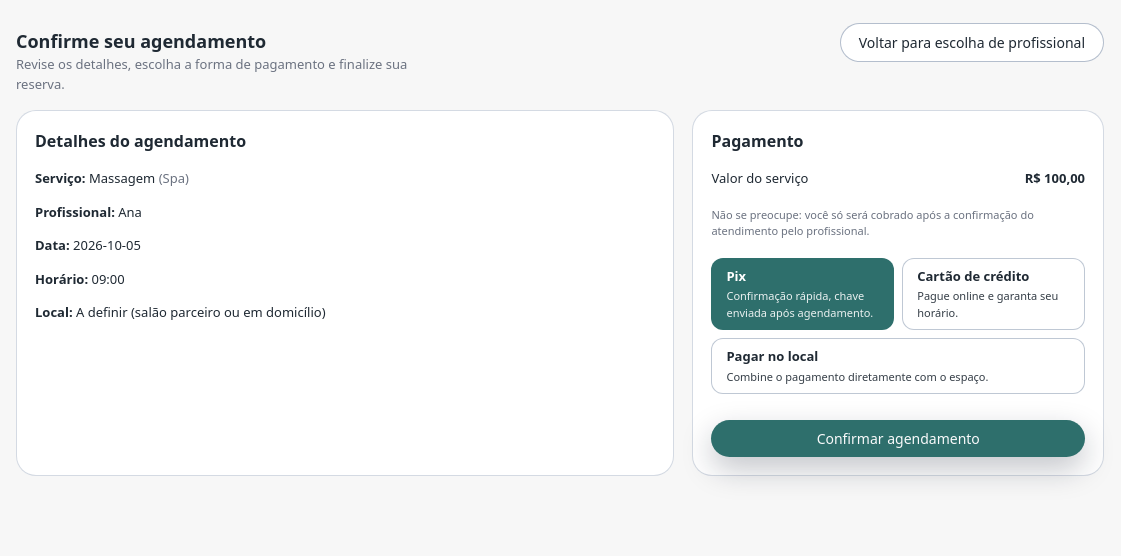
step3_shows_422_message_and_stays › step3_shows_422_message_and_stays
The image size is (1121, 556).
Click the button "Confirmar agendamento".
click(898, 438)  # box [712,420,1085,457]
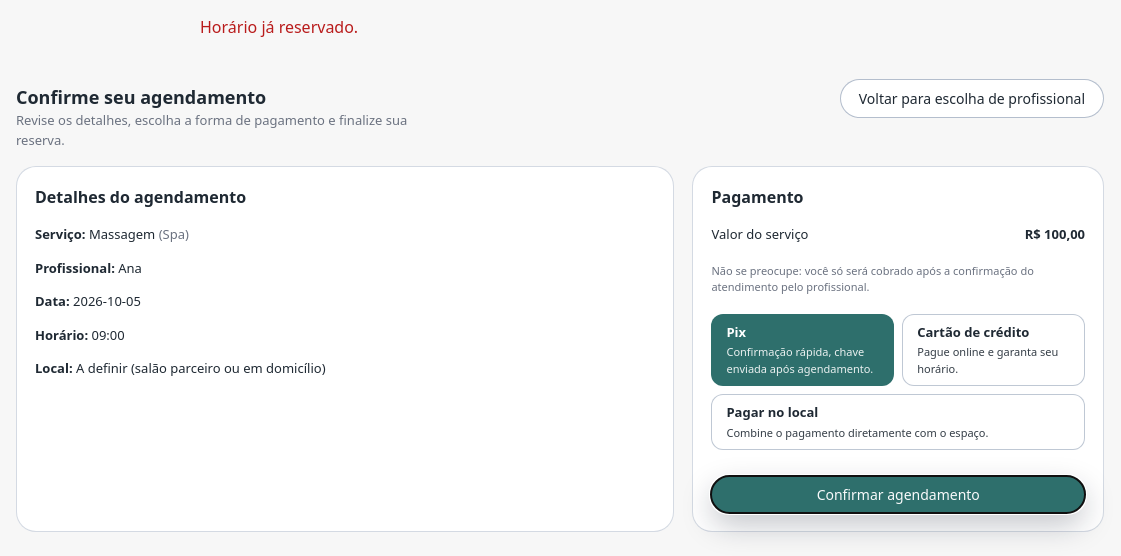
Result: the message reads "Horário já reservado." at [200,16,358,38]
